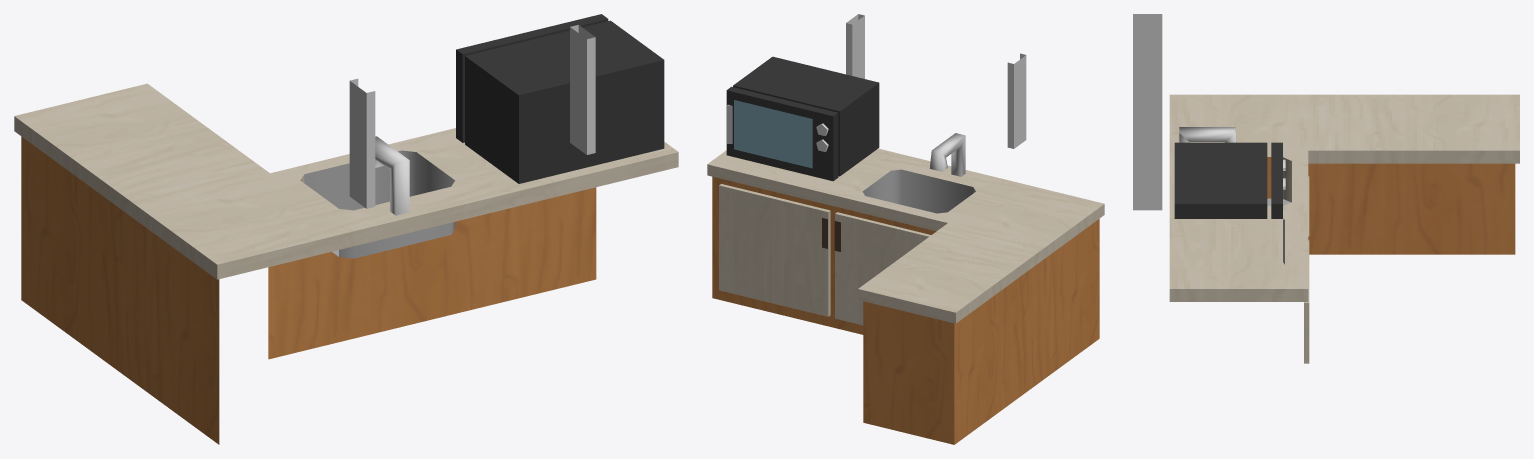
Rendered from interior_A_014.fbx.
The picture shows the model from 3 angles, left to right: view 1: azimuth 30°, elevation 25°; view 2: azimuth 150°, elevation 25°; view 3: azimuth 270°, elevation 25°; orthographic projection. The views are drawn at different scales.
Visible parts, largest first — view 1: interior_A_014; view 2: interior_A_014; view 3: interior_A_014.
Boxes of the visible parts, x1=… form: interior_A_014: x1=14, y1=14, x2=678, y2=444; interior_A_014: x1=707, y1=14, x2=1104, y2=444; interior_A_014: x1=1133, y1=14, x2=1519, y2=363.
Size of the model in its own units: 191 by 134 by 161.
